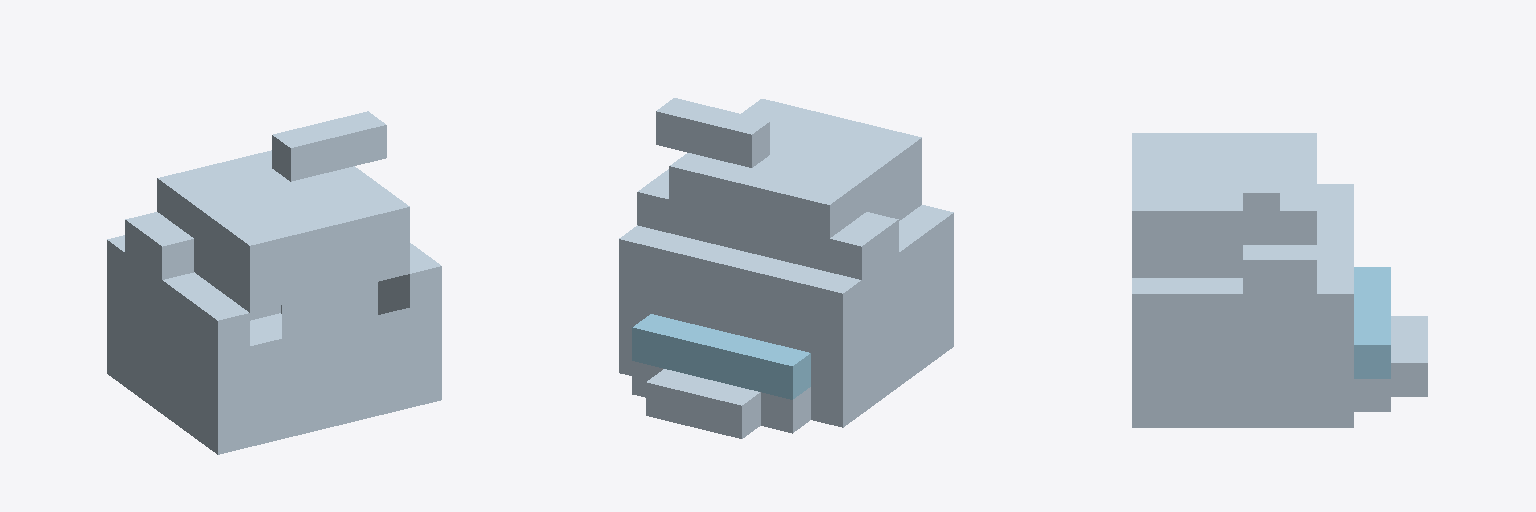
The picture shows the model from 3 angles: view 1: azimuth 30°, elevation 25°; view 2: azimuth 150°, elevation 25°; view 3: azimuth 270°, elevation 25°; orthographic projection.
Size of the model in its own units: 7 by 7 by 8.
1 materials, 1 textured.